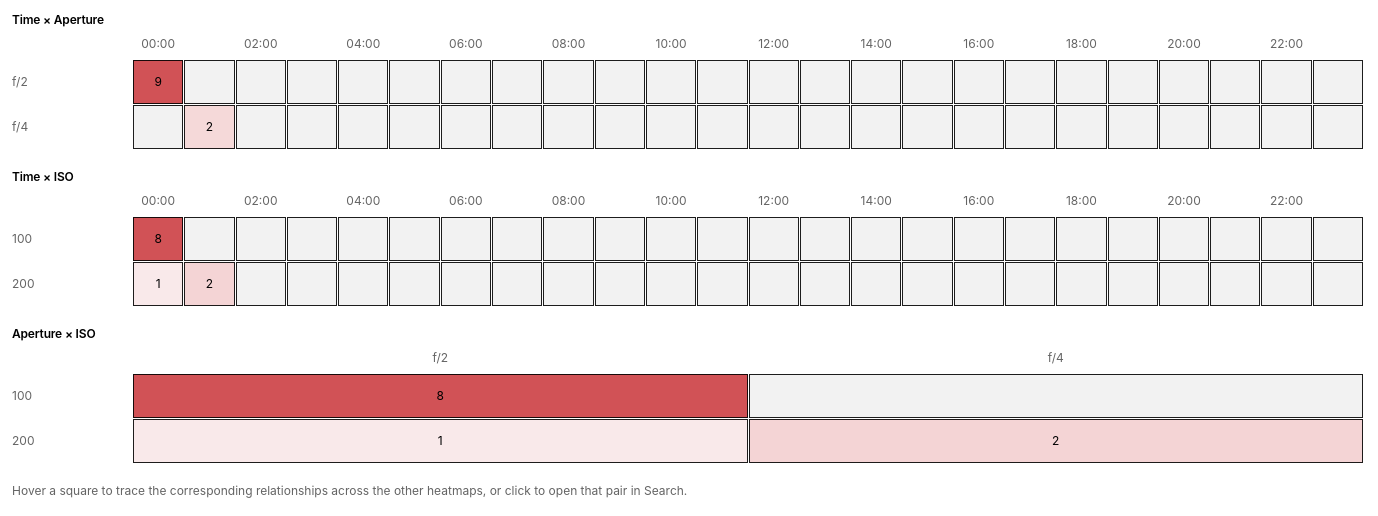
Scenario: TechnicalHeatmaps › draws weighted relationship overlays on hover and clears them on leave
The width and height of the screenshot is (1378, 516).
Hover over the link titled "00:00 · f/2 · 9 photos": (158, 82) [133, 60, 183, 104]
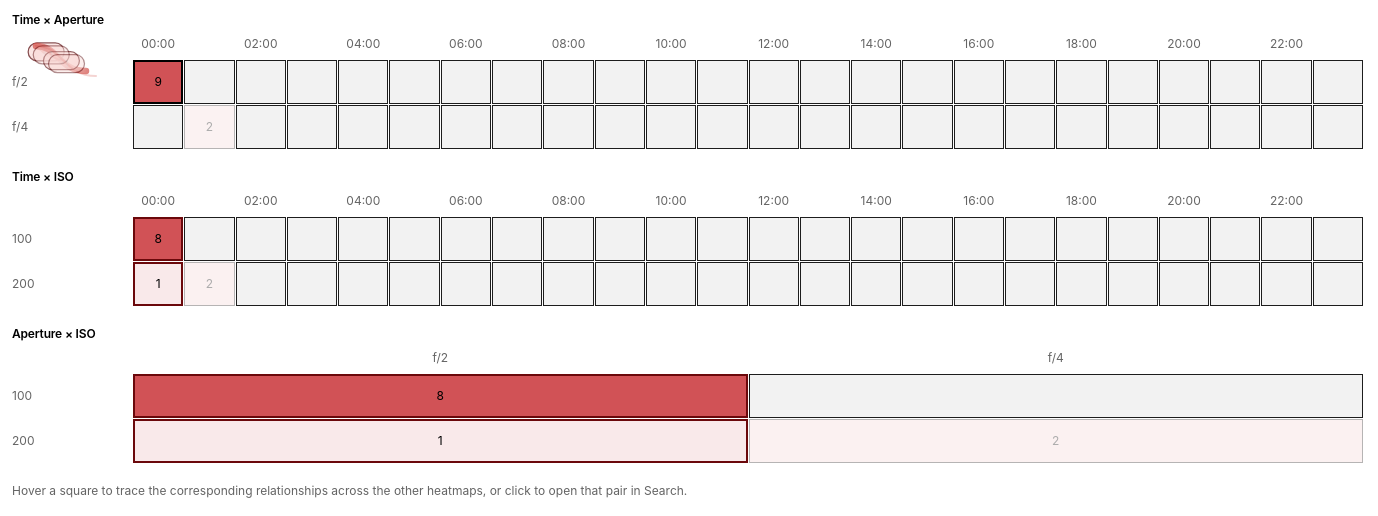
Expected: the icon "8 8 1 1" is shown
Move the pointer off the link titled "00:00 · f/2 · 9 photos", box [133, 60, 183, 104]
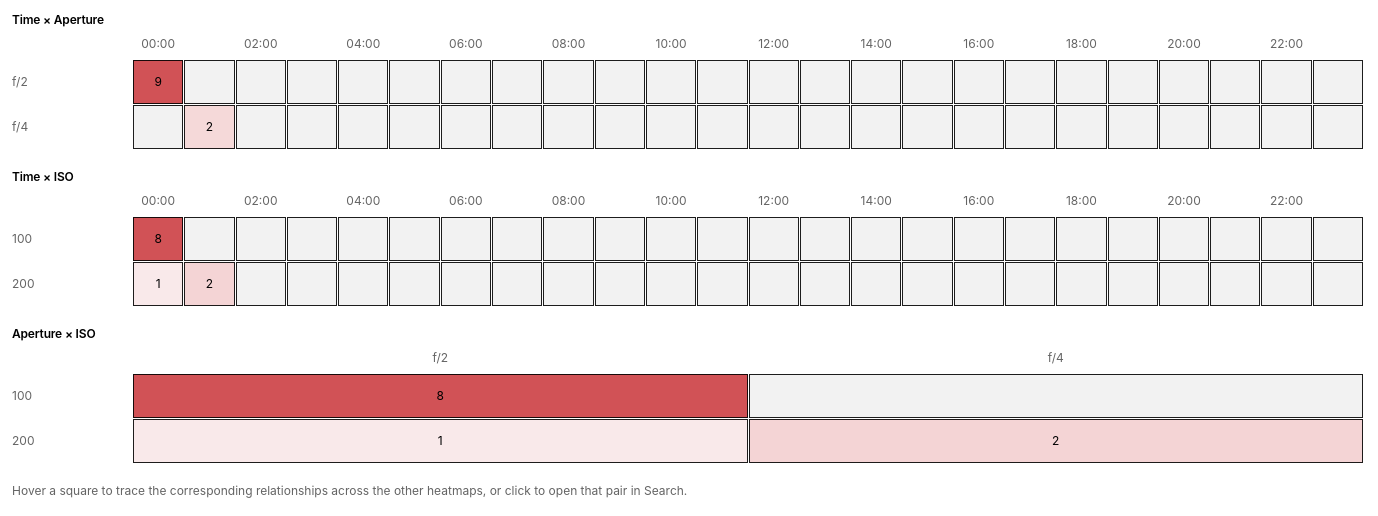
Hover over the link titled "00:00 · f/2 · 9 photos": (158, 82) [133, 60, 183, 104]
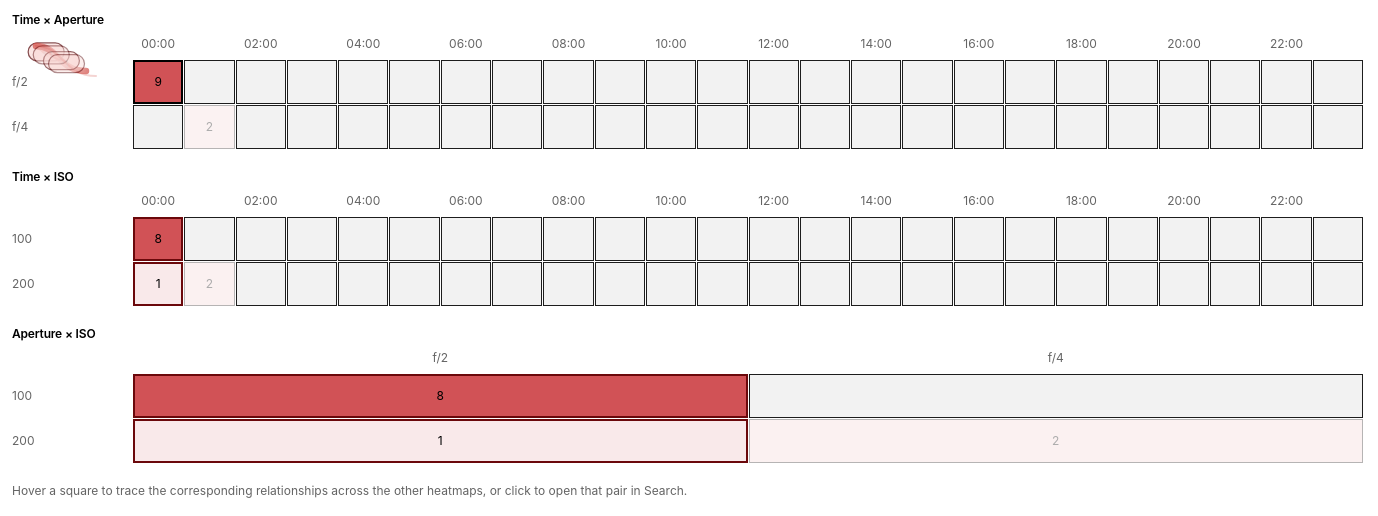
Expected: the icon "8 8 1 1" is shown
